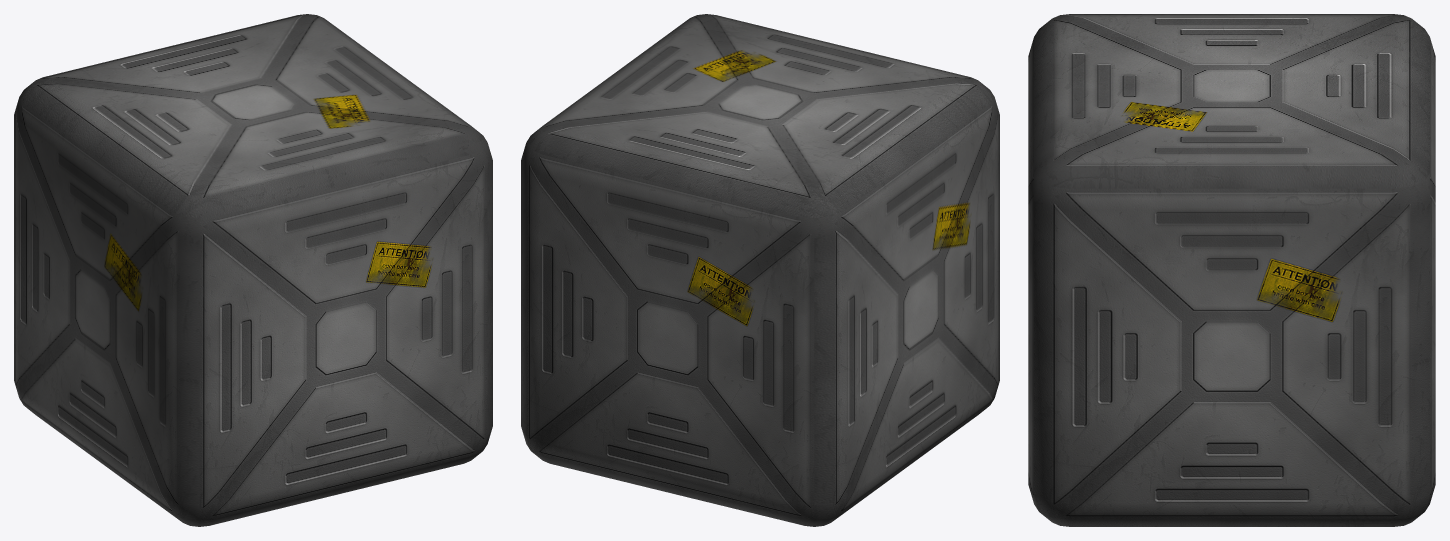
File: techcon2.obj
3 renders of one model, left to right at view 1: azimuth 30°, elevation 25°; view 2: azimuth 150°, elevation 25°; view 3: azimuth 270°, elevation 25°, orthographic. The views are drawn at different scales.
Parts seen in each view (by area): view 1: construct; view 2: construct; view 3: construct.
Part boxes in pixels (bbox=[...]): construct: bbox=[14, 14, 492, 526]; construct: bbox=[521, 14, 999, 526]; construct: bbox=[1028, 14, 1435, 526].
Bounding box in the file's own units: 64 × 64 × 64.
